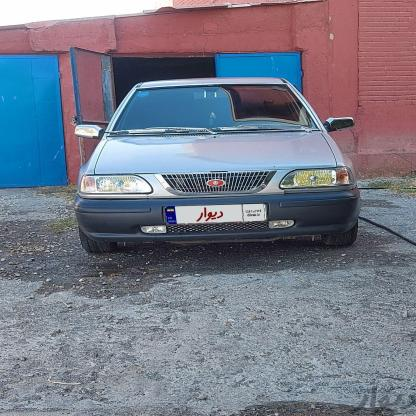Car: (64, 62, 357, 258)
